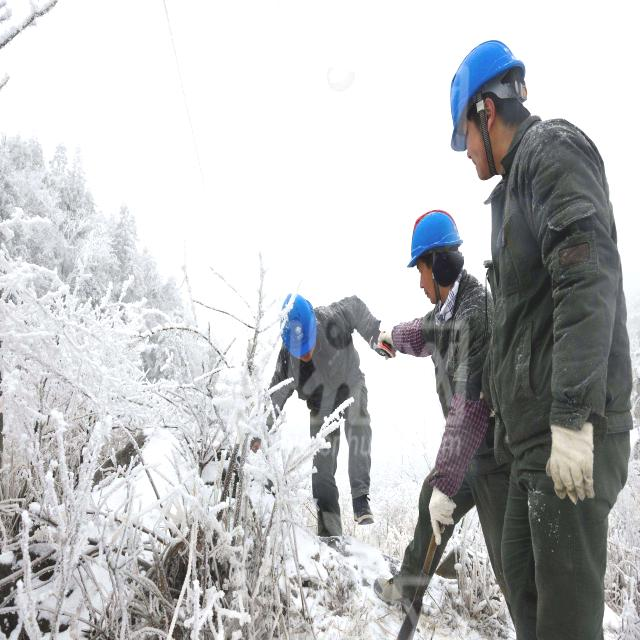face_nomask: (454, 117, 499, 183), (414, 256, 443, 308)
hand_glove: (539, 414, 609, 519), (415, 481, 463, 545), (364, 323, 404, 365)
head_helmet: (444, 41, 526, 152), (401, 206, 465, 269), (278, 290, 318, 357)
person: (450, 11, 640, 603), (384, 218, 497, 630), (272, 288, 376, 542)
shoes: (373, 568, 431, 616), (348, 488, 374, 530)
